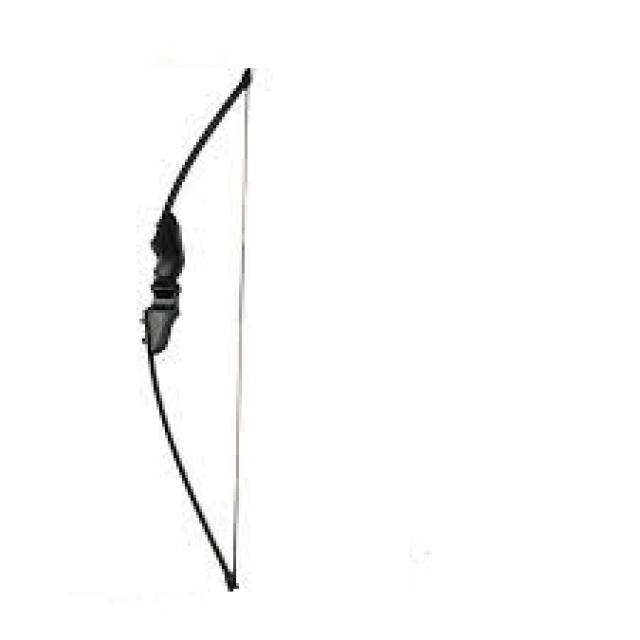X-Bow: (138, 58, 254, 594)
